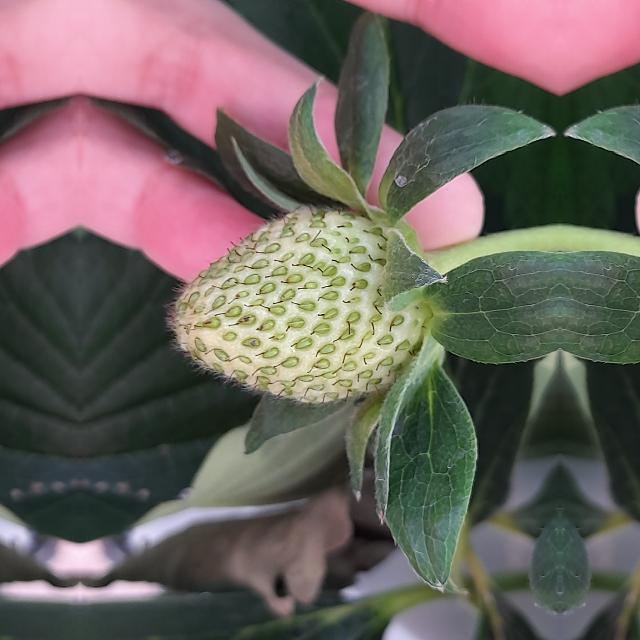Health_25: (163, 203, 427, 411)
